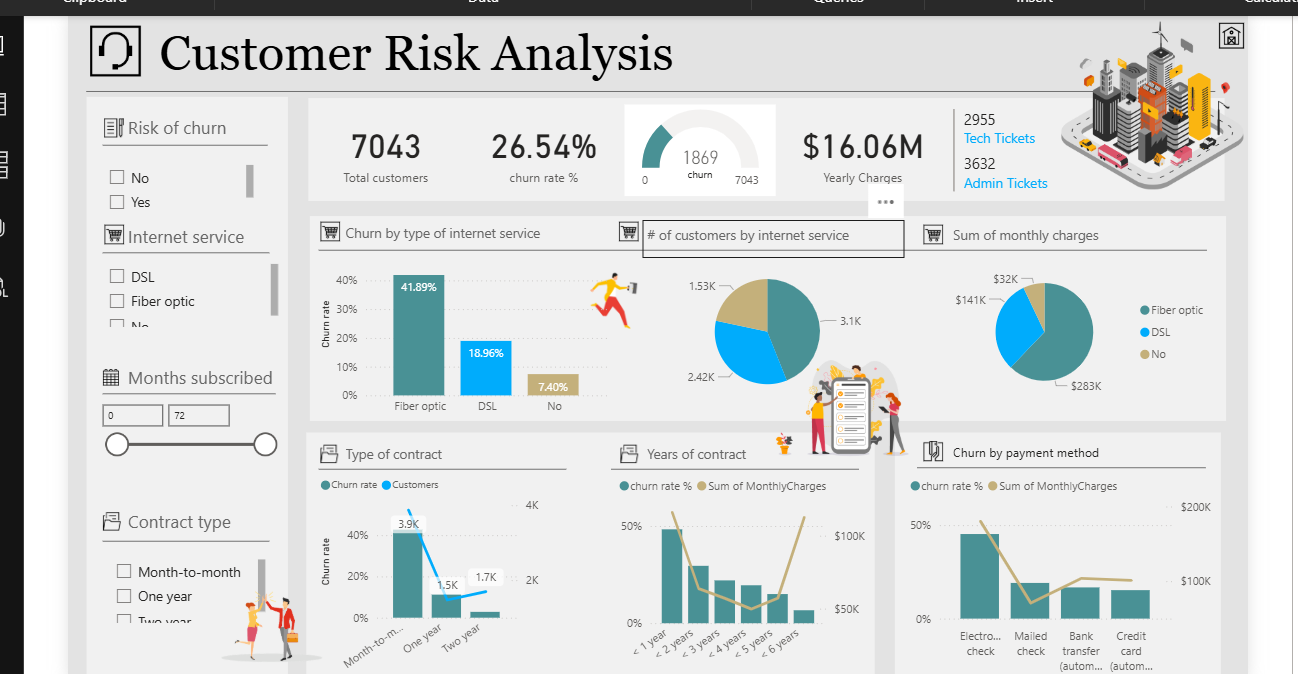

The page's visual inventory and layout, read from the dashboard file:
{"tool":"powerbi","page":{"name":"Customer Risk Analysis","canvas":[1280,720],"ordinal":2},"visuals":[{"type":"basicShape","box":[249.8,87.8,1013.8,113.8],"z":0},{"type":"basicShape","box":[892.2,448.5,360.8,271],"z":1000},{"type":"basicShape","box":[251.8,448.5,628.9,271],"z":2000},{"type":"textbox","box":[94.5,4.8,1167.1,75.2],"z":3000},{"type":"basicShape","box":[9,61,1244.3,40.1],"z":4000},{"type":"basicShape","box":[251.8,214.2,1013.8,226.7],"z":5000},{"type":"basicShape","box":[18.3,81,222.8,638.6],"z":6000},{"type":"card","fields":{"Values":["Min(churn.customerID)"]},"box":[261.4,89,164.9,113.8],"z":7000},{"type":"gauge","fields":{"MaxValue":["CountNonNull(churn.customerID)"],"Y":["churn.Count of Churn for Yes"]},"box":[603.8,96.2,164,99.4],"z":8000},{"type":"slicer","fields":{"Values":["churn.Contract"]},"box":[40.5,584.5,178.4,79.1],"z":9000},{"type":"card","fields":{"Values":["Sum(churn.TotalCharges)"]},"box":[778.4,89,164.9,113.8],"z":10000},{"type":"slicer","fields":{"Values":["churn.Churn"]},"box":[31.8,156.3,173.6,57.9],"z":11000},{"type":"image","box":[557.5,242.1,66.6,129.3],"z":12000},{"type":"image","box":[150.5,610.6,136,105.1],"z":13000},{"type":"slicer","title":"Number of months subscribed","fields":{"Values":["churn.tenure"]},"box":[24.1,410.9,210.3,70.4],"z":14000},{"type":"image","box":[17.4,4.8,67.5,65.6],"z":15000},{"type":"textbox","box":[59.8,102.2,174.6,40.5],"z":16000},{"type":"basicShape","box":[28,120.6,198.7,39.5],"z":17000},{"type":"textbox","box":[59.8,374.3,185.2,39.5],"z":18000},{"type":"basicShape","box":[28,389.7,207.4,38.6],"z":19000},{"type":"basicShape","box":[28,549.8,200.6,39.5],"z":20000},{"type":"image","box":[31.8,374.3,28,34.7],"z":21000},{"type":"textbox","box":[59.8,529.6,159.2,40.5],"z":22000},{"type":"image","box":[31.8,105.1,34.7,30.9],"z":23000},{"type":"image","box":[31.8,524.7,29.9,45.3],"z":24000},{"type":"textbox","box":[59.8,221.2,180.4,40.5],"z":25000},{"type":"basicShape","box":[28,237,200.6,38.6],"z":26000},{"type":"slicer","fields":{"Values":["churn.InternetService"]},"box":[31.8,263.3,200.6,78.1],"z":27000},{"type":"card","fields":{"Values":["churn.churn rate %"]},"box":[437,89,156.3,113.8],"z":28000},{"type":"lineClusteredColumnComboChart","fields":{"Category":["churn.Contract"],"Y":["churn.churn rate %"],"Y2":["CountNonNull(churn.customerID)"]},"box":[269.1,489,246.9,230.5],"z":29000},{"type":"lineClusteredColumnComboChart","fields":{"Y":["churn.churn rate %"],"Y2":["CountNonNull(churn.MonthlyCharges)"],"Category":["churn.Loyalty"]},"box":[591.3,489,276.8,230.5],"z":30000},{"type":"textbox","box":[296.1,220,300.9,40.5],"z":31000},{"type":"basicShape","box":[261.4,234.4,982.9,39.5],"z":32000},{"type":"clusteredColumnChart","fields":{"Category":["churn.InternetService"],"Y":["churn.churn rate %"]},"box":[269.1,242.1,322.2,198.7],"z":33000},{"type":"pieChart","fields":{"Y":["CountNonNull(churn.MonthlyCharges)"],"Category":["churn.InternetService"]},"box":[949.1,264.3,295.2,154.3],"z":34000},{"type":"pieChart","fields":{"Category":["churn.InternetService"],"Y":["CountNonNull(churn.customerID)"]},"box":[622.2,261.4,270.1,160.1],"z":35000},{"type":"textbox","box":[954,221.9,283.6,40.5],"z":36000},{"type":"textbox","box":[622.2,221.9,285.5,40.5],"z":37000},{"type":"basicShape","box":[261.4,471.7,288.4,39.5],"z":38000},{"type":"textbox","box":[296.1,459.1,237.3,40.5],"z":39000},{"type":"textbox","box":[622.2,459.1,270.1,40.5],"z":40000},{"type":"basicShape","box":[579.7,471.7,288.4,39.5],"z":41000},{"type":"lineClusteredColumnComboChart","fields":{"Y":["churn.churn rate %"],"Y2":["CountNonNull(churn.MonthlyCharges)"],"Category":["churn.PaymentMethod"]},"box":[907.7,489,336.6,230.5],"z":42000},{"type":"basicShape","box":[911.5,469.8,332.8,39.5],"z":43000},{"type":"textbox","box":[954.3,459.1,270.1,40.5],"z":44000},{"type":"multiRowCard","fields":{"Values":["Sum(churn.numTechTickets)","Sum(churn.numAdminTickets)"]},"box":[954,96.2,207.4,99.4],"z":45000},{"type":"image","box":[922.1,452.4,31.8,39.5],"z":46000},{"type":"image","box":[593.2,452.4,29.9,45.3],"z":47000},{"type":"image","box":[269.1,451.4,29.9,45.3],"z":48000},{"type":"image","box":[34.7,219.9,31.8,34.7],"z":49000},{"type":"image","box":[269.1,217,31.8,34.7],"z":50000},{"type":"image","box":[591.3,217,31.8,34.7],"z":51000},{"type":"image","box":[922.1,219.9,31.8,34.7],"z":52000},{"type":"textbox","box":[666.5,156.3,57.9,28.9],"z":53000},{"type":"image","box":[1072.6,0,207.4,193.9],"z":54000},{"type":"image","box":[1242,0,38,42.9],"z":55000},{"type":"image","box":[752.4,361.7,191,129.3],"z":56000}]}

Visuals, with their boxes on the page's 1280x720 design canvas (x1, y1, x2, y2). These are canvas units, not pixel positions in the 1298x674 screenshot, which may show the page scaled, cropped or inside an application window:
basicShape: box=[250, 88, 1264, 202]
basicShape: box=[892, 448, 1253, 720]
basicShape: box=[252, 448, 881, 720]
textbox: box=[94, 5, 1262, 80]
basicShape: box=[9, 61, 1253, 101]
basicShape: box=[252, 214, 1266, 441]
basicShape: box=[18, 81, 241, 720]
card - Min(churn.customerID): box=[261, 89, 426, 203]
gauge - CountNonNull(churn.customerID) x churn.Count of Churn for Yes: box=[604, 96, 768, 196]
slicer - churn.Contract: box=[40, 584, 219, 664]
card - Sum(churn.TotalCharges): box=[778, 89, 943, 203]
slicer - churn.Churn: box=[32, 156, 205, 214]
image: box=[558, 242, 624, 371]
image: box=[150, 611, 286, 716]
"Number of months subscribed" slicer: box=[24, 411, 234, 481]
image: box=[17, 5, 85, 70]
textbox: box=[60, 102, 234, 143]
basicShape: box=[28, 121, 227, 160]
textbox: box=[60, 374, 245, 414]
basicShape: box=[28, 390, 235, 428]
basicShape: box=[28, 550, 229, 589]
image: box=[32, 374, 60, 409]
textbox: box=[60, 530, 219, 570]
image: box=[32, 105, 66, 136]
image: box=[32, 525, 62, 570]
textbox: box=[60, 221, 240, 262]
basicShape: box=[28, 237, 229, 276]
slicer - churn.InternetService: box=[32, 263, 232, 341]
card - churn.churn rate %: box=[437, 89, 593, 203]
lineClusteredColumnComboChart - churn.Contract x churn.churn rate %: box=[269, 489, 516, 720]
lineClusteredColumnComboChart - churn.churn rate % x CountNonNull(churn.MonthlyCharges): box=[591, 489, 868, 720]
textbox: box=[296, 220, 597, 260]
basicShape: box=[261, 234, 1244, 274]
clusteredColumnChart - churn.InternetService x churn.churn rate %: box=[269, 242, 591, 441]
pieChart - CountNonNull(churn.MonthlyCharges) x churn.InternetService: box=[949, 264, 1244, 419]
pieChart - churn.InternetService x CountNonNull(churn.customerID): box=[622, 261, 892, 422]
textbox: box=[954, 222, 1238, 262]
textbox: box=[622, 222, 908, 262]
basicShape: box=[261, 472, 550, 511]
textbox: box=[296, 459, 533, 500]
textbox: box=[622, 459, 892, 500]
basicShape: box=[580, 472, 868, 511]
lineClusteredColumnComboChart - churn.churn rate % x CountNonNull(churn.MonthlyCharges): box=[908, 489, 1244, 720]
basicShape: box=[912, 470, 1244, 509]
textbox: box=[954, 459, 1224, 500]
multiRowCard - Sum(churn.numTechTickets) x Sum(churn.numAdminTickets): box=[954, 96, 1161, 196]
image: box=[922, 452, 954, 492]
image: box=[593, 452, 623, 498]
image: box=[269, 451, 299, 497]
image: box=[35, 220, 66, 255]
image: box=[269, 217, 301, 252]
image: box=[591, 217, 623, 252]
image: box=[922, 220, 954, 255]
textbox: box=[666, 156, 724, 185]
image: box=[1073, 0, 1280, 194]
image: box=[1242, 0, 1280, 43]
image: box=[752, 362, 943, 491]
